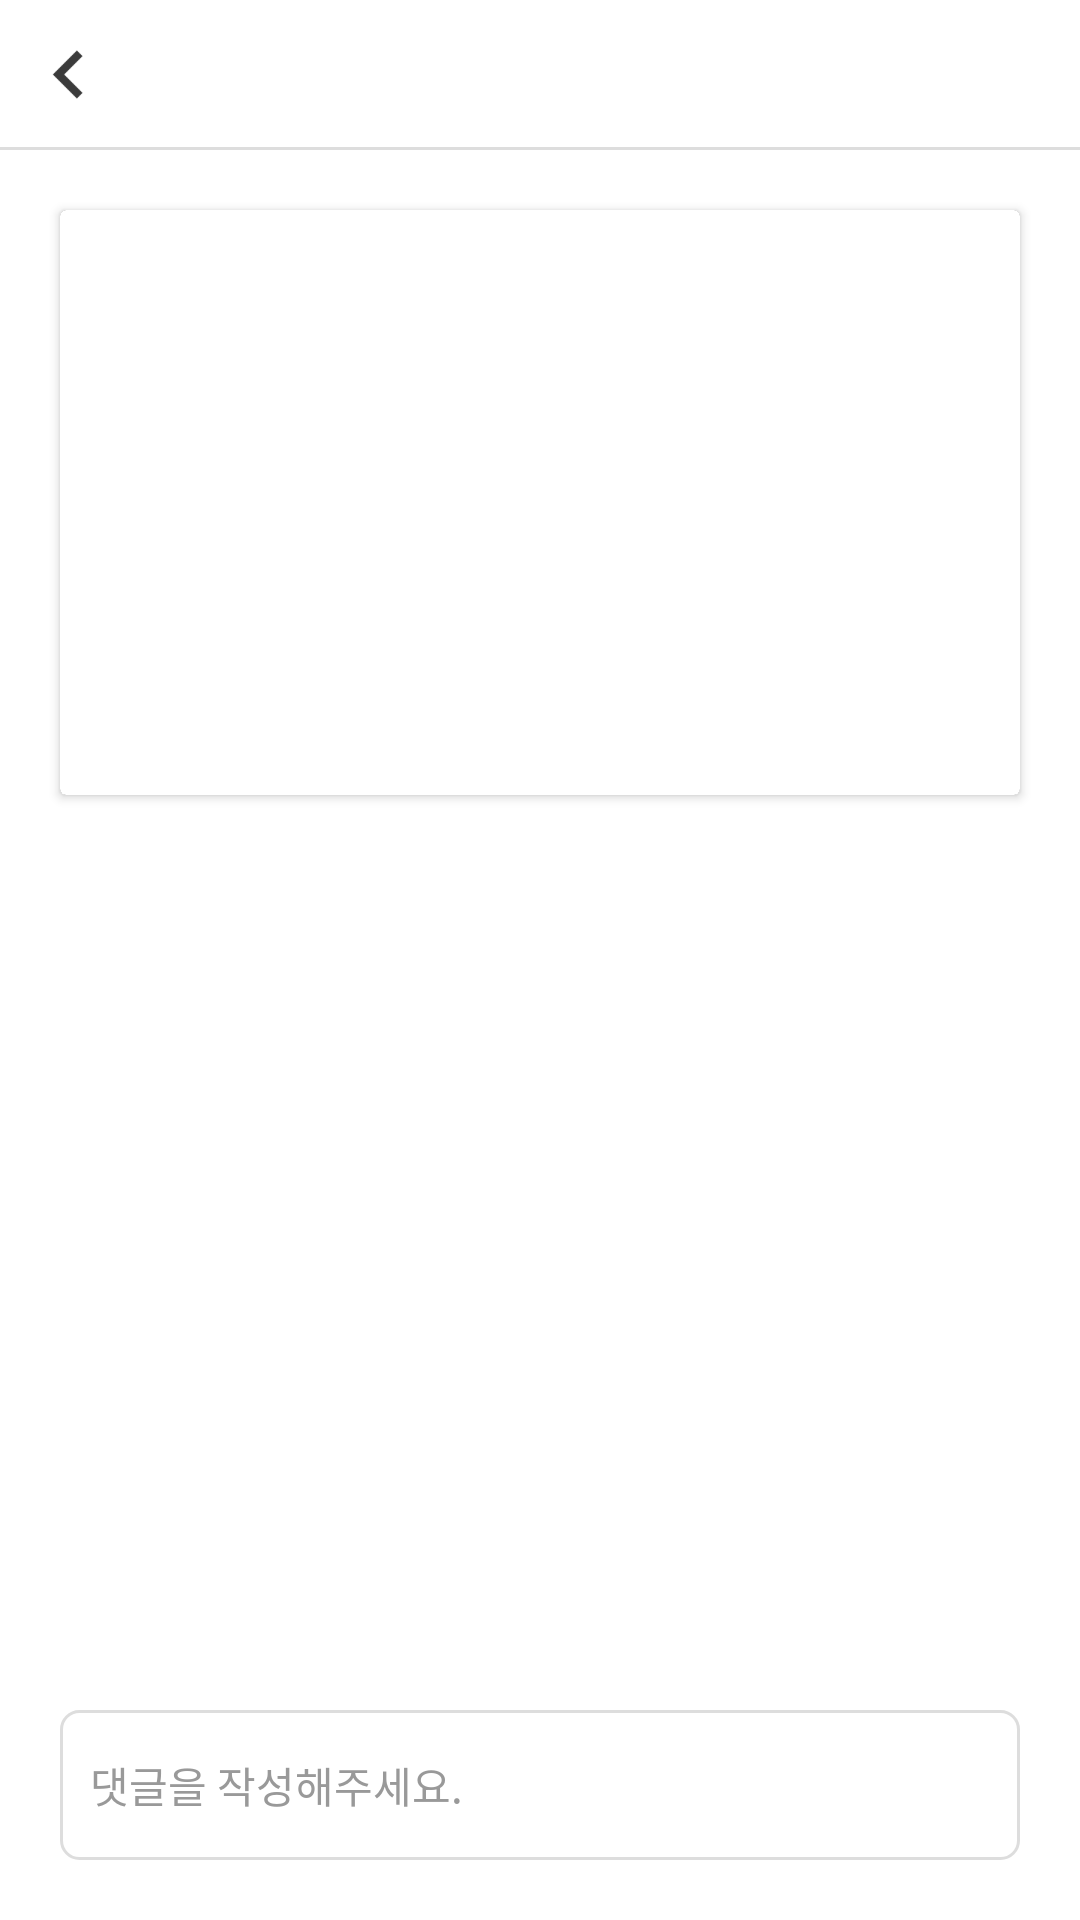

Where icons sit on this 1080 × 1920 app screen, as box(x1, y1, x2, y2):
arrow: box(53, 50, 83, 99)
